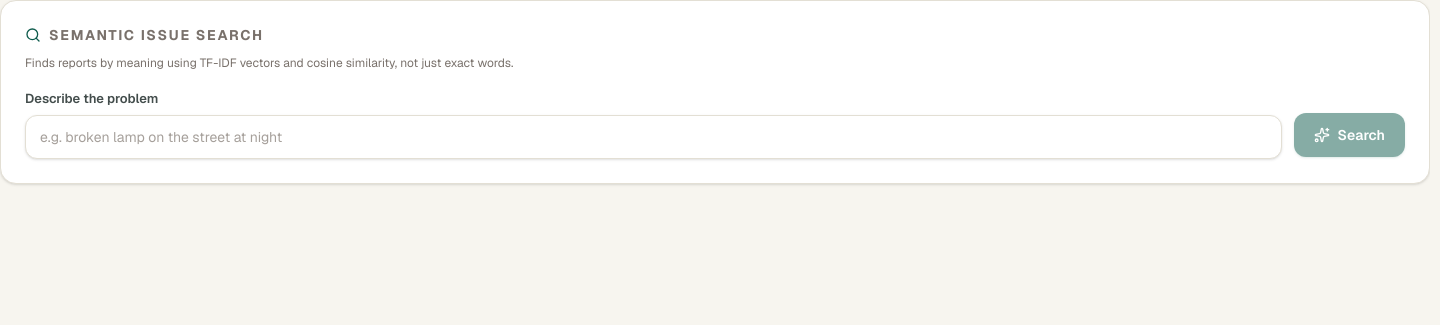
Test: SemanticSearch › submits a trimmed query and renders matching reports
This screenshot has width=1440, height=325.
Type "  broken lamp  " into the field labelled "Describe the problem" at (653, 136), box [25,114,1282,158]
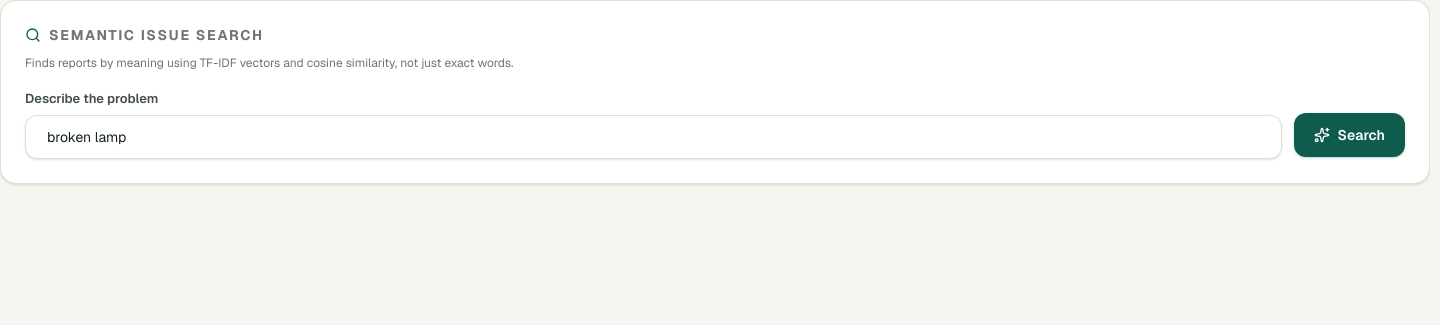
Click the button "Search" at (1349, 134), box [1294,112,1405,156]
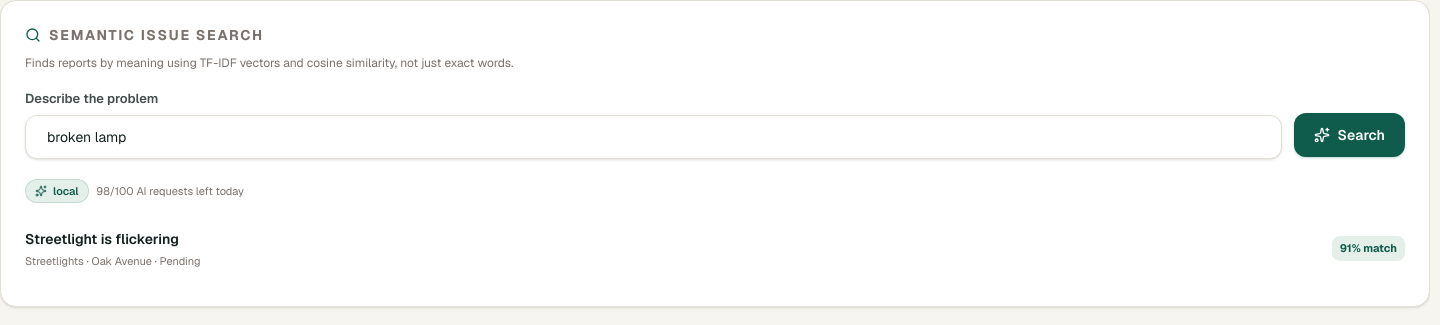
Check: the link "Streetlight is flickering" is shown, box [25,230,179,248]
Check: the text "91% match" is shown, box [1332,236,1405,260]
